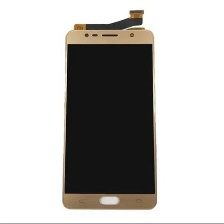phone: (59, 27, 161, 211)
